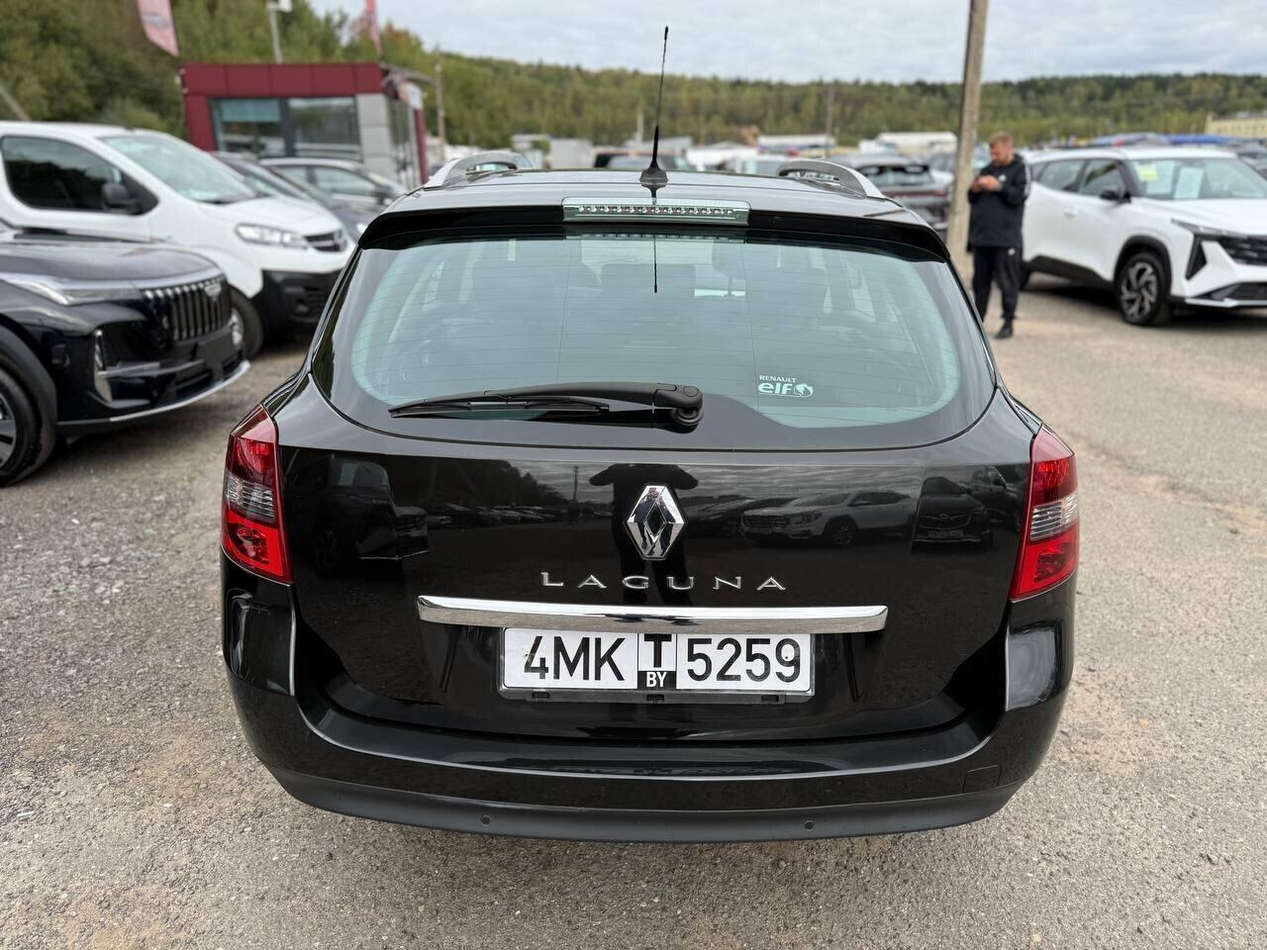Laguna_2010-2015: (213, 160, 1074, 841)
